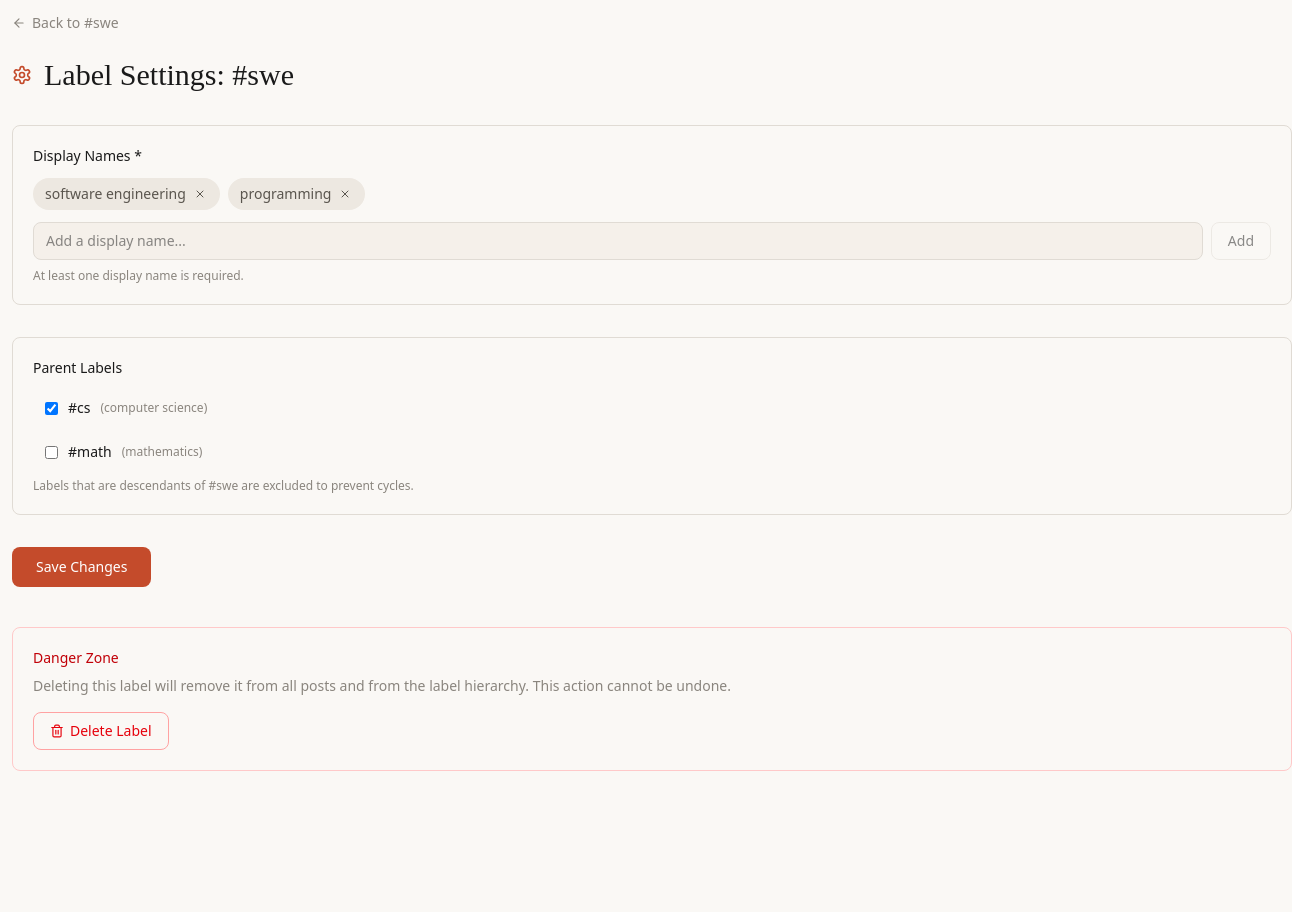
LabelSettingsPage › cancels delete confirmation
This screenshot has width=1292, height=912.
What coordinates should you click on to do the following:
click the button "Delete Label"
I would click on:
 (101, 731)
Its box is x1=33 y1=712 x2=168 y2=750.
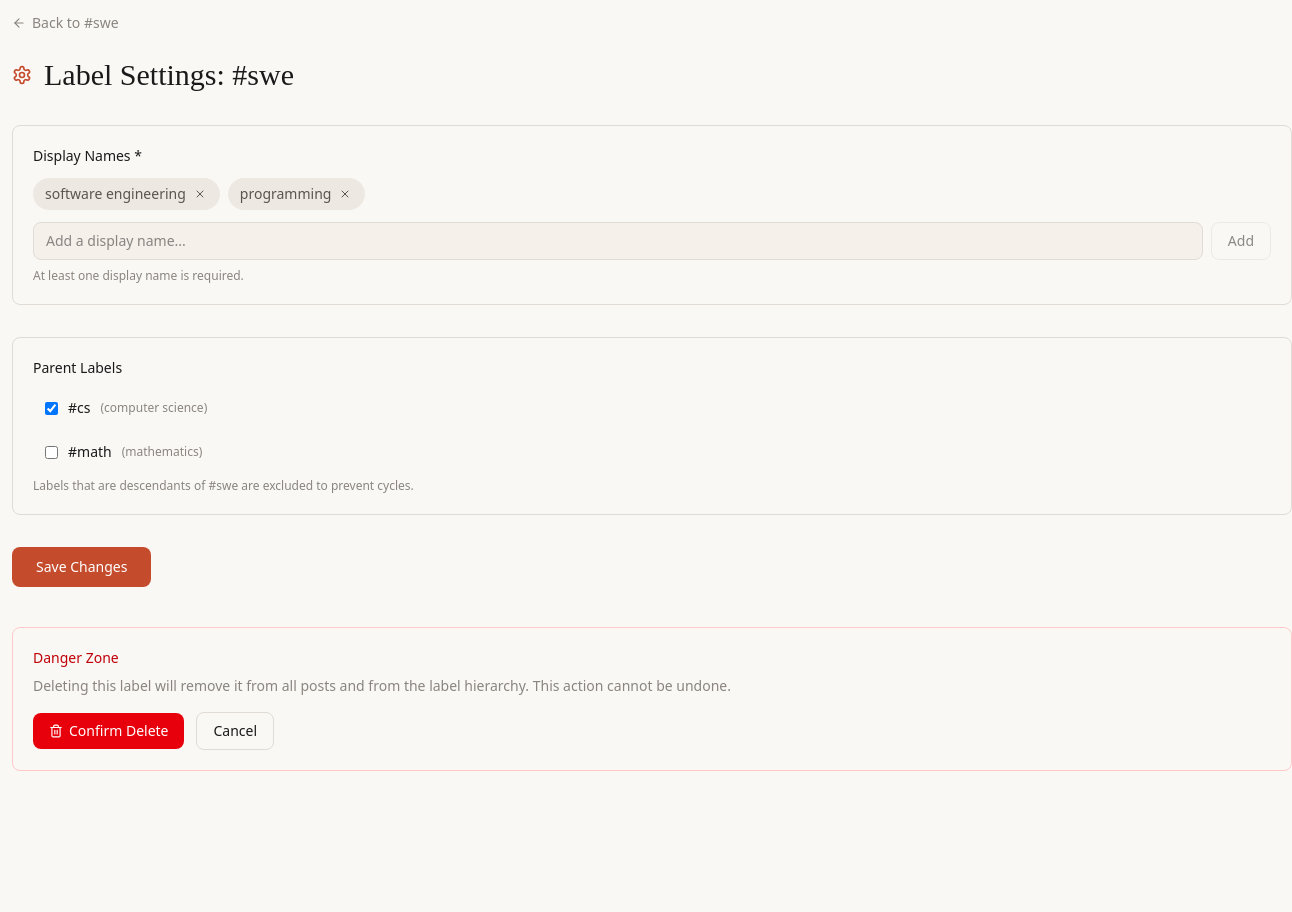
Now the button "Confirm Delete" is shown, box x1=33 y1=713 x2=184 y2=749
What coordinates should you click on to do the following:
click the button "Cancel"
I would click on:
 (235, 731)
Its box is x1=196 y1=712 x2=274 y2=750.
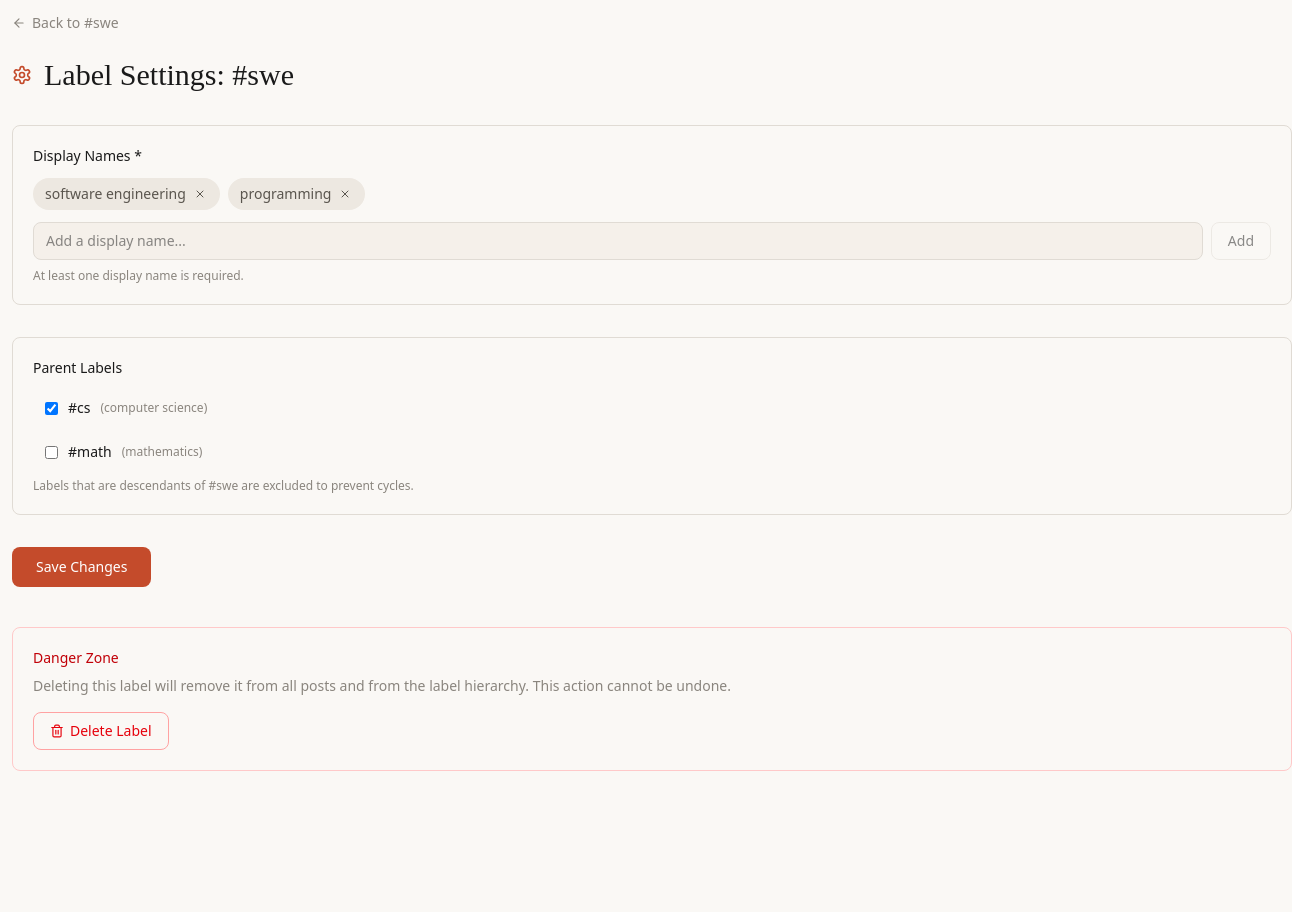
Now the button "Confirm Delete" is gone
